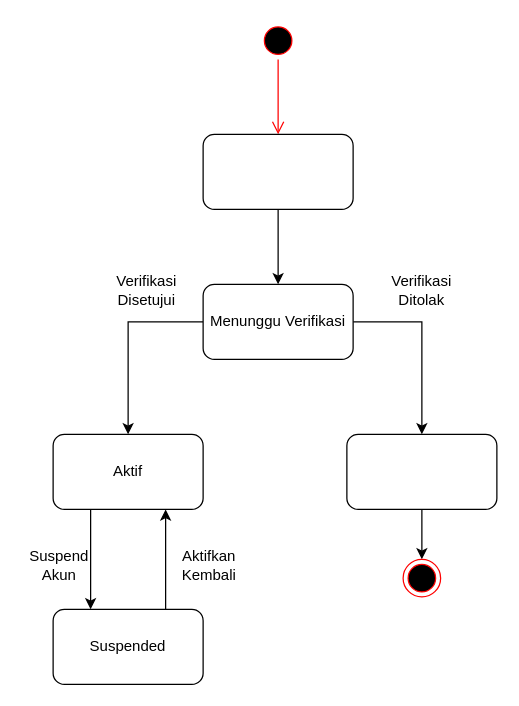
This 519x706 diagram has some shape labels left out. Here are the shapes that lost their labels. From the top down, the centre of each, then its label:
[277,171]: Terdaftar
[421,471]: Ditolak
